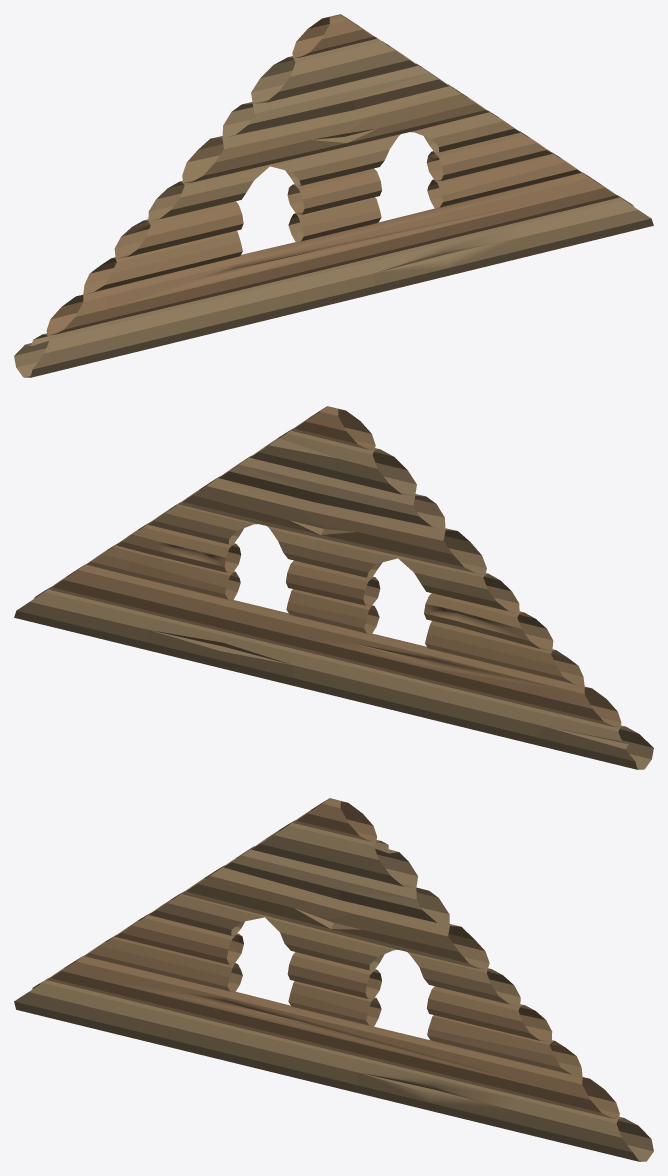
File: rpgpp_ag_roof_end_01_9x4_wall_window_01c.fbx
The picture shows the model from 3 angles, top to bottom: view 1: azimuth 30°, elevation 25°; view 2: azimuth 150°, elevation 25°; view 3: azimuth 330°, elevation 25°; orthographic projection.
Visible parts, largest first — view 1: rpgpp_ag_roof_end_01_9x4_wall_window_01c; view 2: rpgpp_ag_roof_end_01_9x4_wall_window_01c; view 3: rpgpp_ag_roof_end_01_9x4_wall_window_01c.
Part boxes in pixels (bbox=[...]): rpgpp_ag_roof_end_01_9x4_wall_window_01c: bbox=[14, 14, 653, 377]; rpgpp_ag_roof_end_01_9x4_wall_window_01c: bbox=[14, 406, 653, 769]; rpgpp_ag_roof_end_01_9x4_wall_window_01c: bbox=[14, 798, 653, 1161].
Bounding box in the file's own units: 9 × 3.94 × 0.4626.
